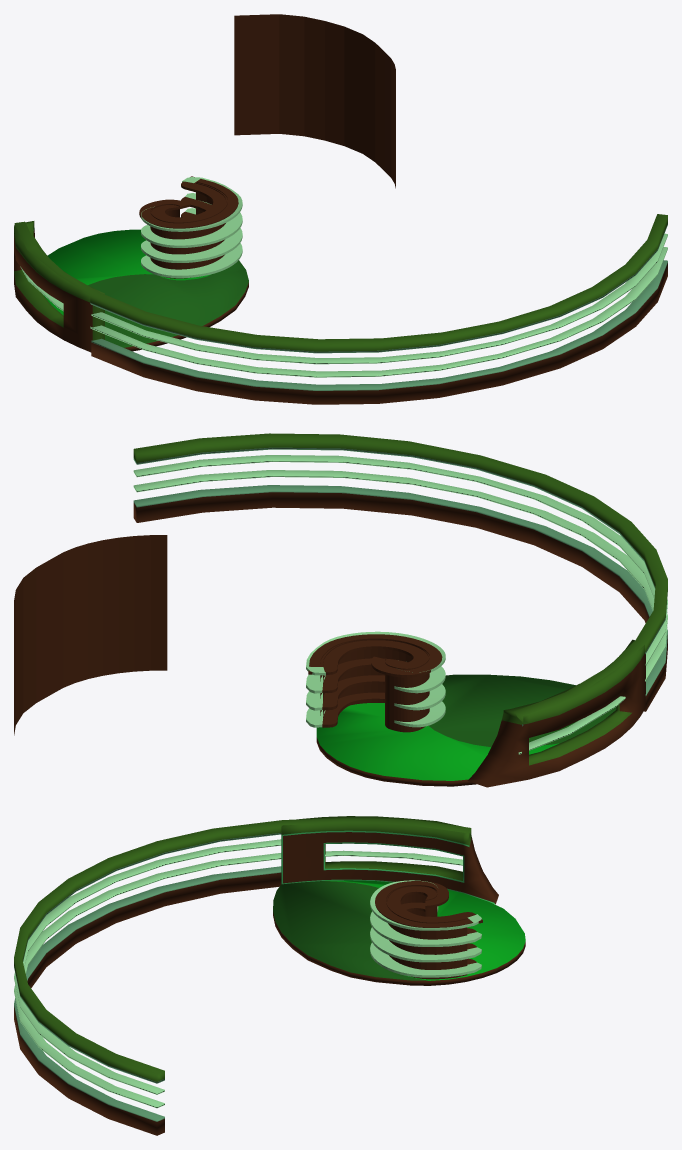
Rendered from Shelves.Lvl1.fbx.
The picture shows the model from 3 angles, top to bottom: view 1: azimuth 30°, elevation 25°; view 2: azimuth 150°, elevation 25°; view 3: azimuth 270°, elevation 25°; orthographic projection. The views are drawn at different scales.
Parts seen in each view (by area): view 1: BigShelves.Lvl1, ShelfWall.Lvl3.001, Leaf.Lvl1, ChalkBoard.Lvl1.001, SwirlyShelf.Lvl1, ShelfWall.Lvl1.001, Cylinder.022, Shelves; view 2: BigShelves.Lvl1, ShelfWall.Lvl3.001, Leaf.Lvl1, ChalkBoard.Lvl1.001, ShelfWall.Lvl1.001, SwirlyShelf.Lvl1, Cylinder.022, ShelfWall.Lvl1, ChalkBoardShelf.Lvl1, Shelves; view 3: BigShelves.Lvl1, Leaf.Lvl1, ChalkBoard.Lvl1.001, SwirlyShelf.Lvl1, ShelfWall.Lvl1.001, Cylinder.022, ChalkBoardShelf.Lvl1, Shelves.
Boxes of the visible parts, left/top/right/bottom form: BigShelves.Lvl1: left=14, top=214, right=667, bottom=404; ShelfWall.Lvl3.001: left=234, top=14, right=395, bottom=188; Leaf.Lvl1: left=43, top=229, right=248, bottom=351; ChalkBoard.Lvl1.001: left=14, top=221, right=104, bottom=352; SwirlyShelf.Lvl1: left=141, top=193, right=242, bottom=278; ShelfWall.Lvl1.001: left=139, top=176, right=238, bottom=228; Cylinder.022: left=150, top=182, right=227, bottom=278; Shelves: left=141, top=177, right=242, bottom=231; BigShelves.Lvl1: left=133, top=433, right=667, bottom=726; ShelfWall.Lvl3.001: left=14, top=535, right=167, bottom=735; Leaf.Lvl1: left=316, top=674, right=616, bottom=786; ChalkBoard.Lvl1.001: left=467, top=639, right=645, bottom=787; ShelfWall.Lvl1.001: left=308, top=634, right=442, bottom=727; SwirlyShelf.Lvl1: left=306, top=659, right=445, bottom=727; Cylinder.022: left=320, top=638, right=429, bottom=732; ShelfWall.Lvl1: left=323, top=639, right=428, bottom=717; ChalkBoardShelf.Lvl1: left=518, top=679, right=645, bottom=754; Shelves: left=306, top=631, right=445, bottom=675; BigShelves.Lvl1: left=14, top=818, right=471, bottom=1135; Leaf.Lvl1: left=273, top=880, right=525, bottom=985; ChalkBoard.Lvl1.001: left=281, top=816, right=498, bottom=904; SwirlyShelf.Lvl1: left=370, top=902, right=481, bottom=977; ShelfWall.Lvl1.001: left=375, top=881, right=482, bottom=949; Cylinder.022: left=386, top=885, right=467, bottom=979; ChalkBoardShelf.Lvl1: left=325, top=850, right=462, bottom=865; Shelves: left=370, top=880, right=481, bottom=930.
Size of what is drawn, in the model's own units: 2854 by 631 by 3048.
